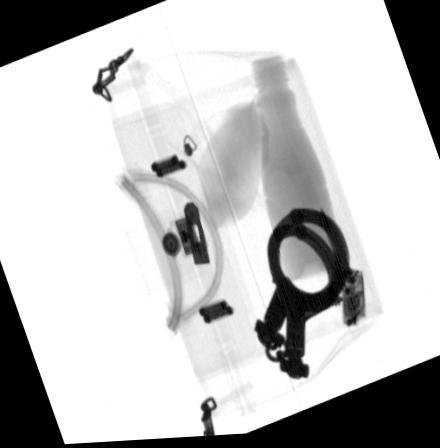HandCuffs: (250, 209, 350, 387)
